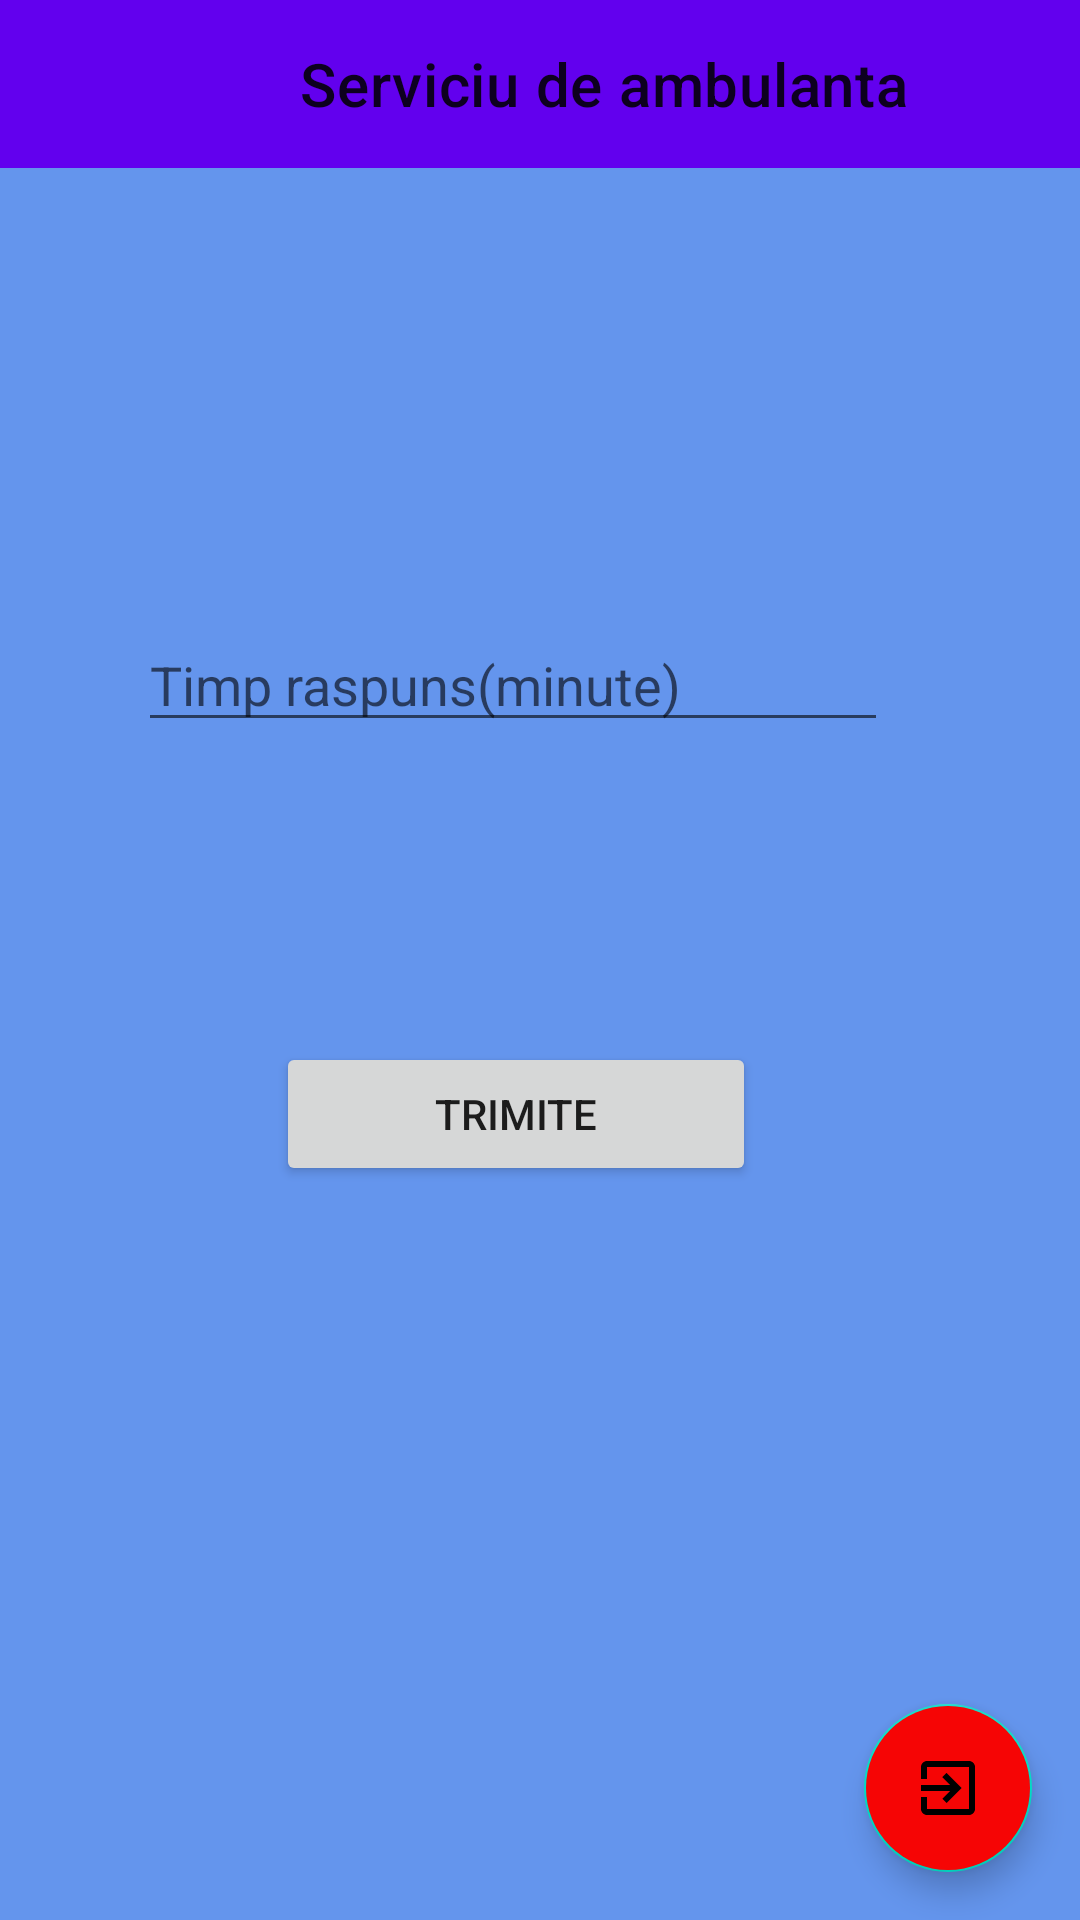

Icons on this 1080px×1920px Android screen, each with the point to tap as (x=x, y=y):
exit to app: (x=948, y=1788)
